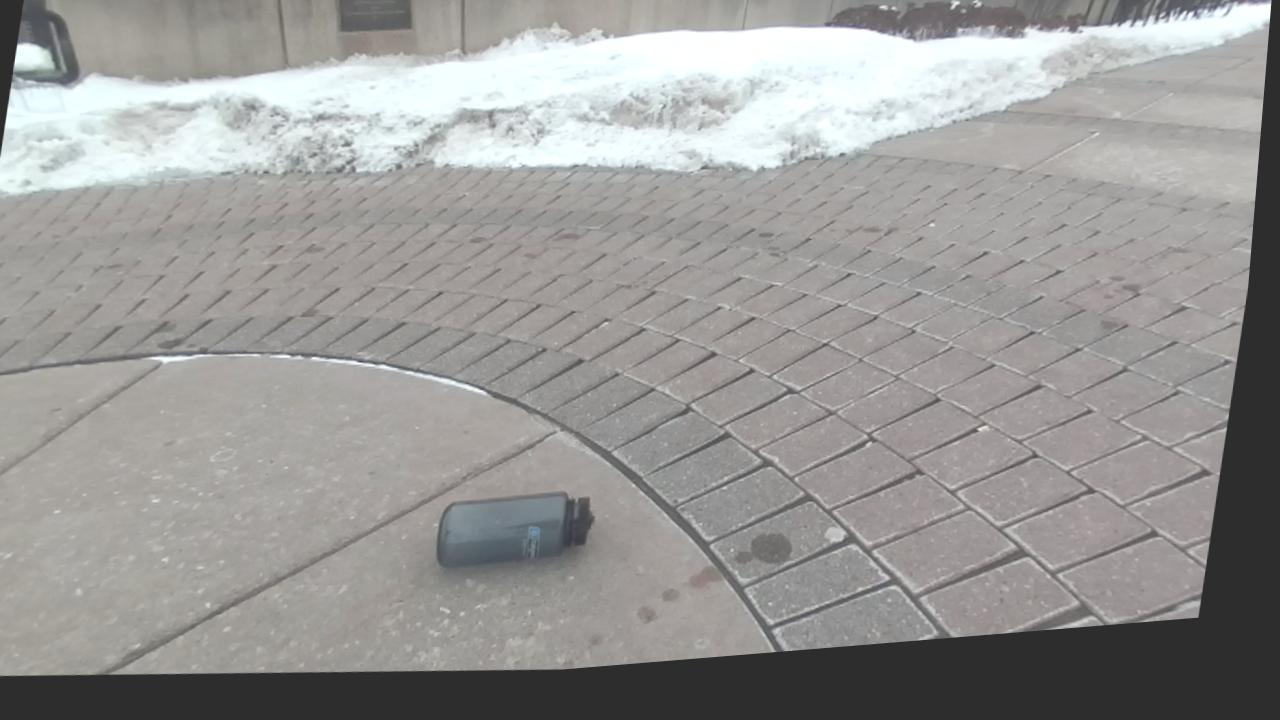bottle: (435, 491, 592, 566)
